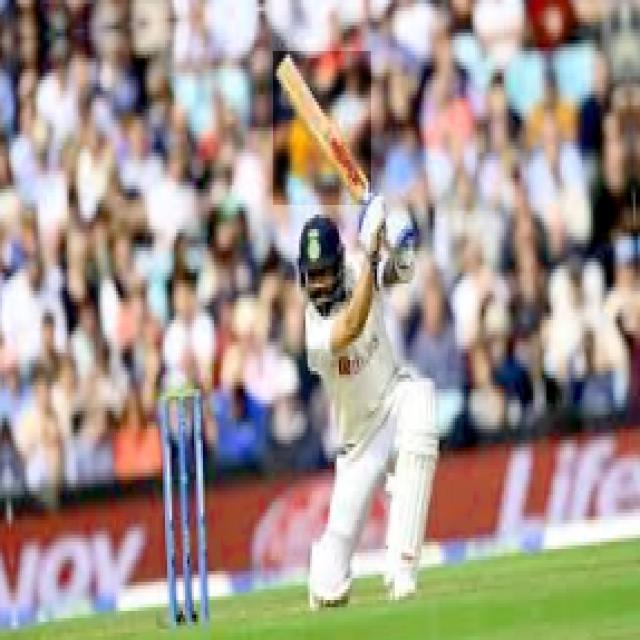bat: (272, 50, 370, 201)
toe: (272, 50, 297, 75)
